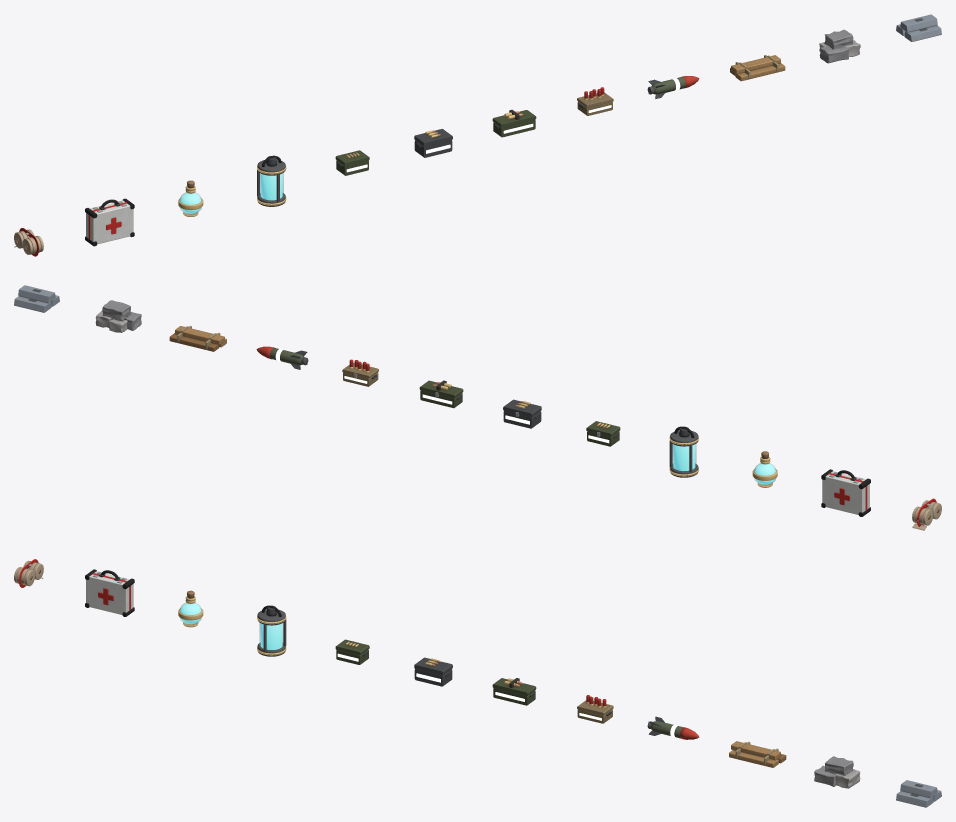
The model's file is objetos.glb.
3 views of the same model, one above another, from view 1: azimuth 30°, elevation 25°; view 2: azimuth 150°, elevation 25°; view 3: azimuth 330°, elevation 25° (orthographic).
Visible parts, largest first — view 1: objetos_botiquin_malla, objetos_bidon_malla, objetos_material_piedra_malla, objetos_material_madera_malla, objetos_municion_pesada_malla, objetos_municion_media_malla, objetos_material_metal_malla, objetos_municion_cartuchos_malla, objetos_municion_ligera_malla, objetos_municion_cohetes_malla, objetos_frasco_malla, objetos_venda_malla; view 2: objetos_botiquin_malla, objetos_bidon_malla, objetos_material_piedra_malla, objetos_material_madera_malla, objetos_municion_pesada_malla, objetos_municion_media_malla, objetos_material_metal_malla, objetos_municion_cartuchos_malla, objetos_municion_ligera_malla, objetos_municion_cohetes_malla, objetos_venda_malla, objetos_frasco_malla; view 3: objetos_botiquin_malla, objetos_bidon_malla, objetos_material_piedra_malla, objetos_material_madera_malla, objetos_municion_pesada_malla, objetos_municion_media_malla, objetos_material_metal_malla, objetos_municion_cartuchos_malla, objetos_municion_ligera_malla, objetos_municion_cohetes_malla, objetos_frasco_malla, objetos_venda_malla.
Part boxes in pixels (x1,y1,x2,y2): objetos_botiquin_malla: [85, 198, 134, 246]; objetos_bidon_malla: [257, 155, 286, 206]; objetos_material_piedra_malla: [819, 29, 860, 63]; objetos_material_madera_malla: [730, 55, 785, 81]; objetos_municion_pesada_malla: [492, 109, 536, 137]; objetos_municion_media_malla: [414, 129, 452, 157]; objetos_material_metal_malla: [896, 14, 941, 41]; objetos_municion_cartuchos_malla: [577, 87, 613, 115]; objetos_municion_ligera_malla: [335, 150, 369, 175]; objetos_municion_cohetes_malla: [647, 76, 699, 98]; objetos_frasco_malla: [178, 180, 203, 216]; objetos_venda_malla: [14, 228, 43, 256]; objetos_botiquin_malla: [821, 469, 870, 516]; objetos_bidon_malla: [669, 426, 698, 477]; objetos_material_piedra_malla: [95, 300, 141, 332]; objetos_material_madera_malla: [169, 326, 226, 351]; objetos_municion_pesada_malla: [419, 380, 463, 408]; objetos_municion_media_malla: [503, 399, 541, 428]; objetos_material_metal_malla: [14, 285, 59, 312]; objetos_municion_cartuchos_malla: [342, 359, 378, 386]; objetos_municion_ligera_malla: [586, 421, 620, 446]; objetos_municion_cohetes_malla: [256, 346, 308, 369]; objetos_venda_malla: [912, 498, 941, 530]; objetos_frasco_malla: [752, 451, 777, 487]; objetos_botiquin_malla: [85, 569, 134, 616]; objetos_bidon_malla: [257, 605, 286, 656]; objetos_material_piedra_malla: [814, 756, 860, 788]; objetos_material_madera_malla: [729, 741, 786, 767]; objetos_municion_pesada_malla: [492, 678, 536, 705]; objetos_municion_media_malla: [414, 657, 452, 686]; objetos_material_metal_malla: [896, 780, 941, 807]; objetos_municion_cartuchos_malla: [577, 695, 613, 723]; objetos_municion_ligera_malla: [335, 639, 369, 664]; objetos_municion_cohetes_malla: [647, 716, 699, 739]; objetos_frasco_malla: [178, 590, 203, 627]; objetos_venda_malla: [14, 559, 43, 587].
Size of the model in its own units: 9.02 by 0.429 by 0.3458.
Materials: 4 (1 with a texture image).
